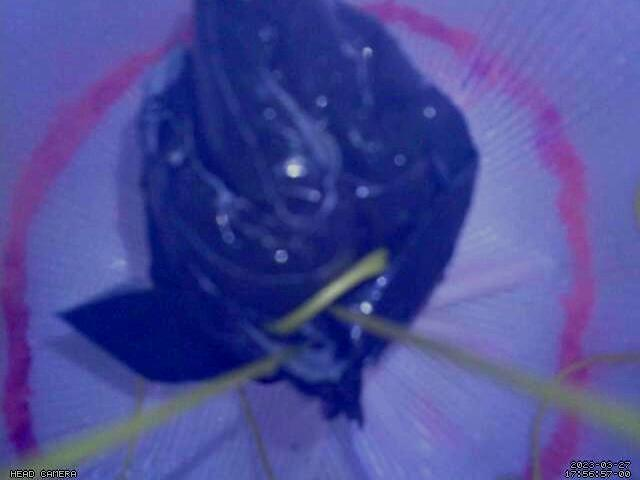head: (0, 1, 599, 480)
